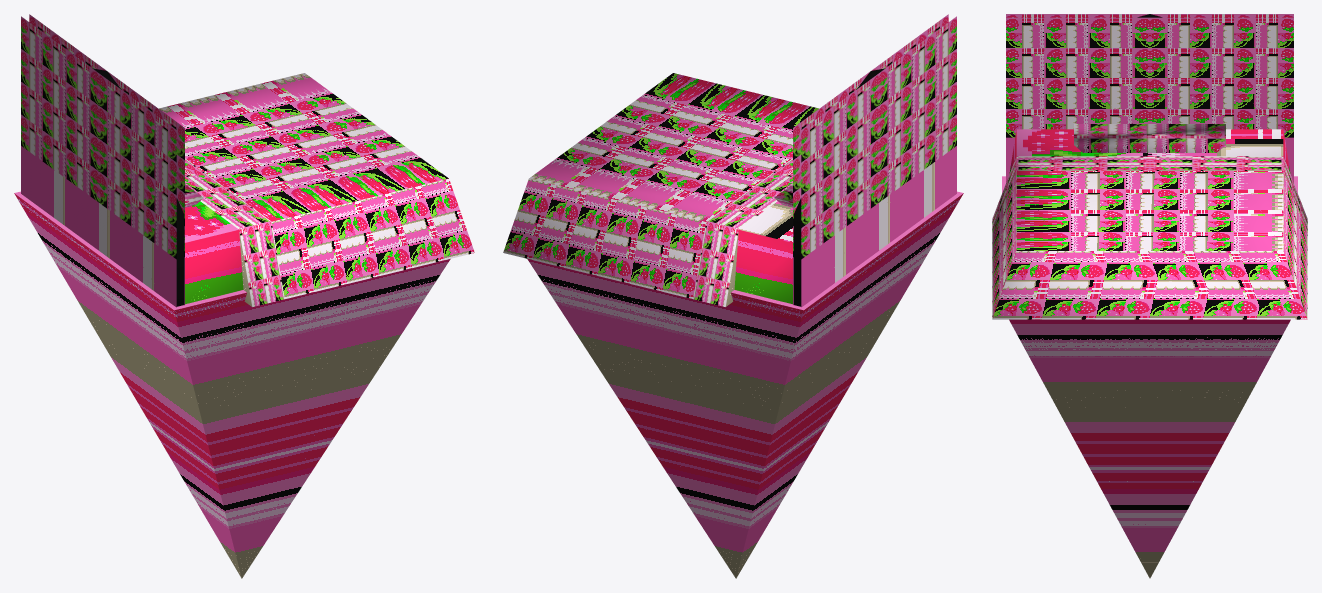
Rendered from 3699kg_it_bed.gltf.
3 views of the same model, side by side, from view 1: azimuth 30°, elevation 25°; view 2: azimuth 150°, elevation 25°; view 3: azimuth 270°, elevation 25° (orthographic). The views are drawn at different scales.
Visible parts, largest first — view 1: 3699kg_it_bed; view 2: 3699kg_it_bed; view 3: 3699kg_it_bed.
Boxes of the visible parts, box(x1,y1,x2,y2) form: 3699kg_it_bed: box(14, 14, 474, 578); 3699kg_it_bed: box(503, 14, 963, 578); 3699kg_it_bed: box(992, 14, 1307, 578).
Bounding box in the file's own units: 1.95 × 3.41 × 1.95.
1 material, 1 textured.
